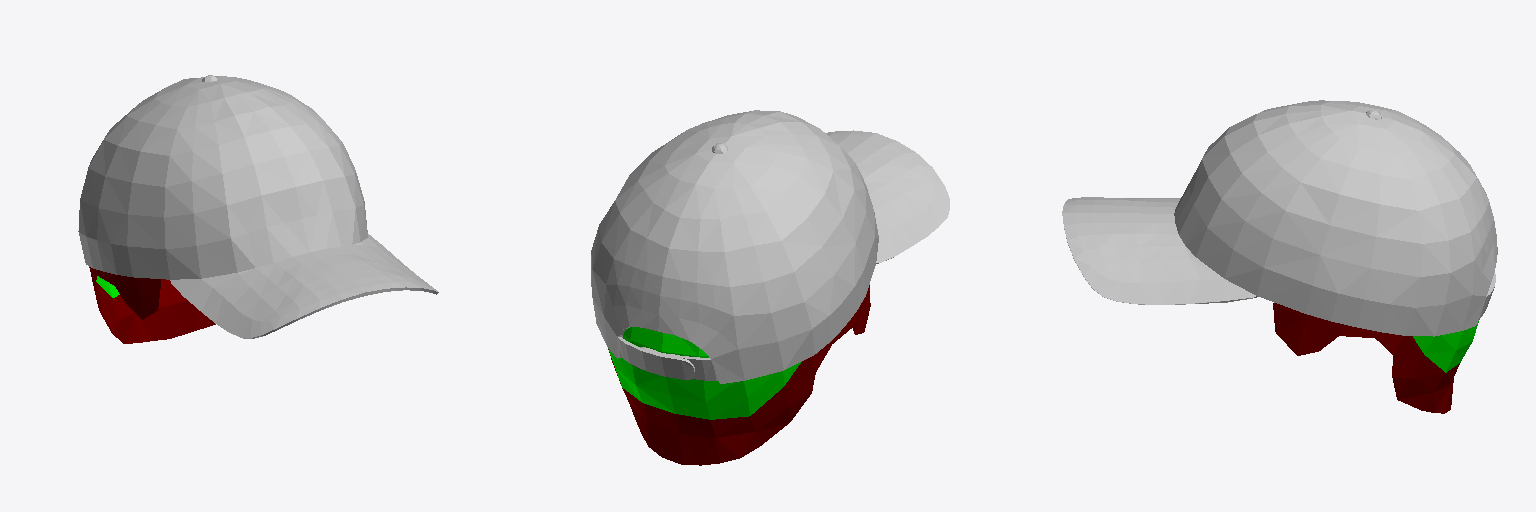
The model's file is BaseballHat_Hair_003.obj.
3 views of the same model, side by side, from view 1: azimuth 30°, elevation 25°; view 2: azimuth 150°, elevation 25°; view 3: azimuth 270°, elevation 25° (orthographic).
Parts seen in each view (by area): view 1: BaseballHat_Hair_003; view 2: BaseballHat_Hair_003; view 3: BaseballHat_Hair_003.
Part boxes in pixels (left/top/right/bottom): BaseballHat_Hair_003: left=78, top=75, right=438, bottom=343; BaseballHat_Hair_003: left=591, top=110, right=949, bottom=465; BaseballHat_Hair_003: left=1062, top=100, right=1497, bottom=413.
Bounding box in the file's own units: 16.06 × 19.12 × 25.85.